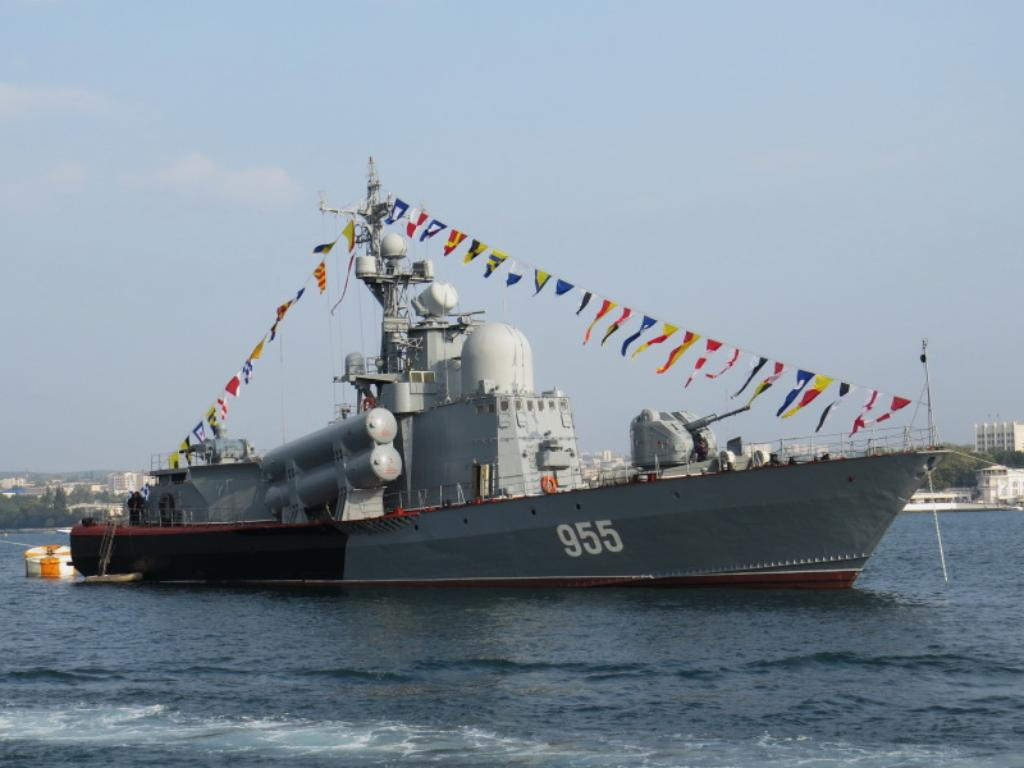Warship: (66, 150, 952, 592)
